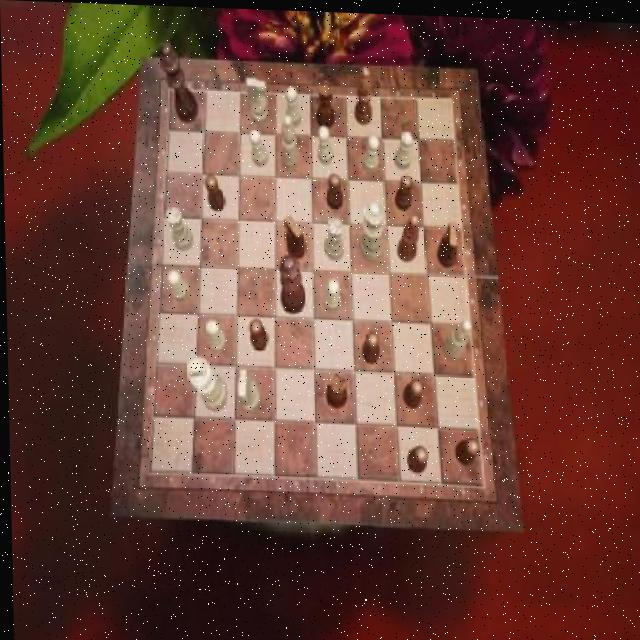bishop: (396, 212, 420, 260), (353, 64, 371, 123)
black-bishop: (159, 40, 198, 122)
black-king: (283, 213, 306, 257), (436, 219, 457, 265)
black-knight: (203, 174, 225, 210), (452, 435, 477, 463), (395, 170, 413, 208), (401, 374, 422, 406), (324, 171, 342, 207), (360, 327, 378, 362), (248, 318, 267, 351), (405, 442, 426, 470)
black-pawn: (277, 252, 304, 313)
black-queen: (316, 78, 334, 126), (324, 371, 345, 407)
black-rook: (440, 317, 471, 358), (280, 113, 298, 169)
white-bishop: (185, 354, 226, 410)
white-king: (245, 77, 268, 123), (236, 366, 260, 410)
white-knight: (165, 269, 188, 303), (203, 318, 225, 352), (394, 128, 413, 167), (361, 132, 380, 171), (249, 127, 268, 165), (284, 85, 301, 126), (316, 123, 333, 162), (322, 277, 339, 311)
white-pawn: (357, 198, 384, 260)
white-queen: (164, 206, 192, 251), (322, 214, 343, 258)
